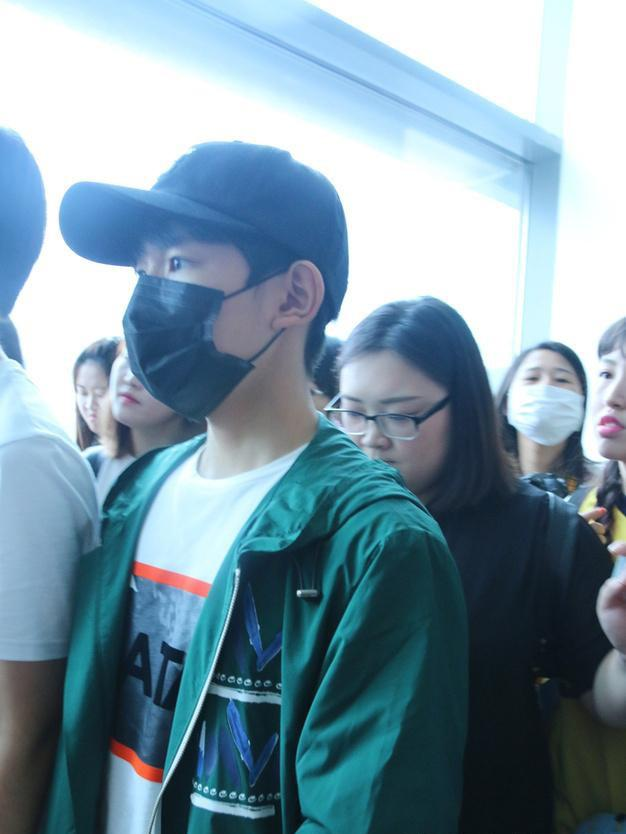NONE: (336, 380, 437, 497), (112, 340, 170, 425), (591, 351, 626, 463), (75, 373, 115, 436)
OK: (125, 228, 257, 421), (510, 361, 583, 446)
